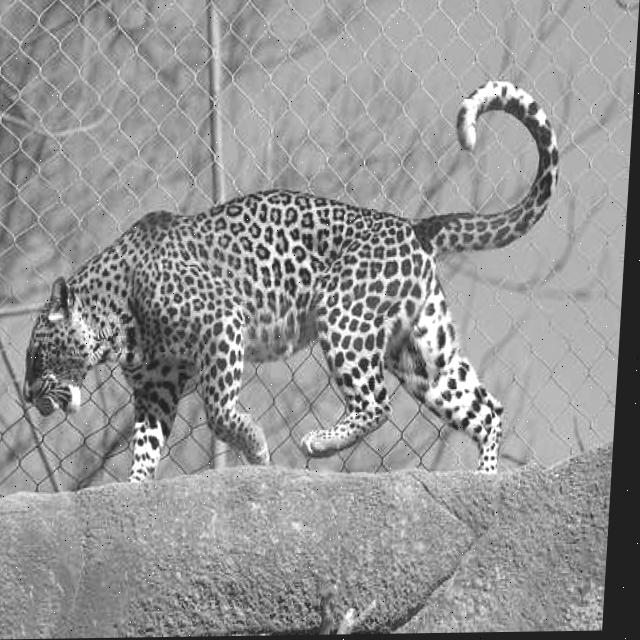Leopard: (16, 77, 563, 486)
